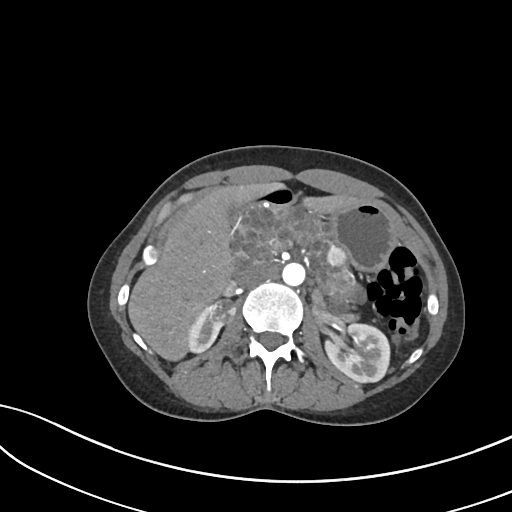Lesion: (213, 297, 236, 325)
